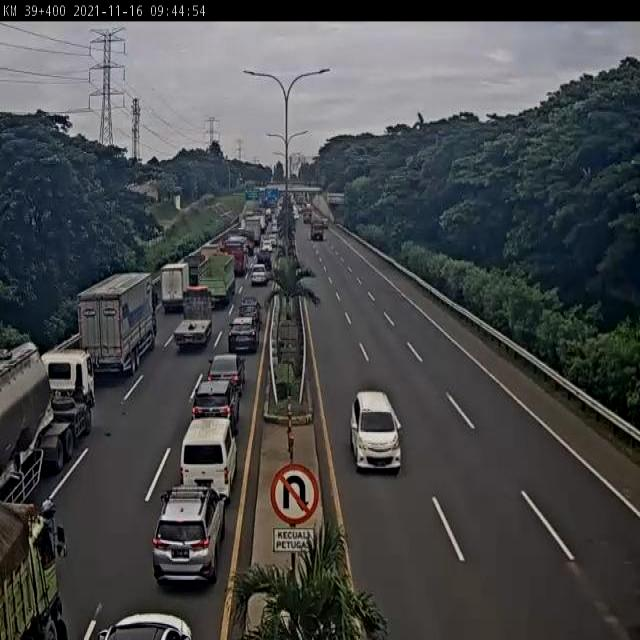Car: (152, 483, 228, 584), (350, 390, 402, 471), (192, 374, 239, 434), (94, 610, 194, 638), (206, 353, 245, 397), (228, 315, 259, 353), (238, 297, 262, 327), (250, 264, 269, 286), (256, 248, 272, 268), (268, 227, 278, 247), (275, 199, 284, 221), (292, 205, 299, 220)
Truck: (0, 326, 97, 473), (0, 498, 74, 640), (77, 272, 157, 379), (197, 253, 235, 307), (176, 289, 208, 342), (160, 262, 190, 312), (244, 218, 262, 246), (310, 218, 326, 241), (274, 238, 284, 253), (303, 209, 312, 224), (302, 196, 310, 209), (265, 208, 271, 220)
Van: (179, 416, 238, 502)
